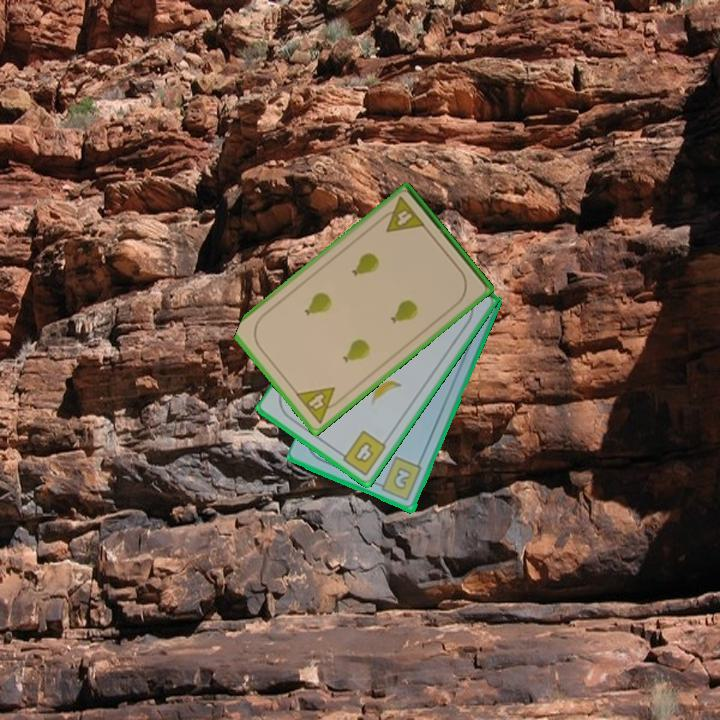2b: (373, 454, 425, 504)
4b: (334, 427, 389, 479)
4p: (292, 383, 346, 427), (375, 193, 428, 236)
